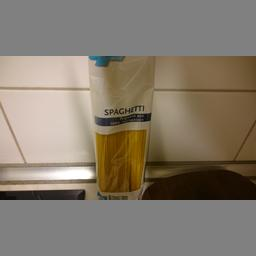pasta: (86, 55, 154, 199)
